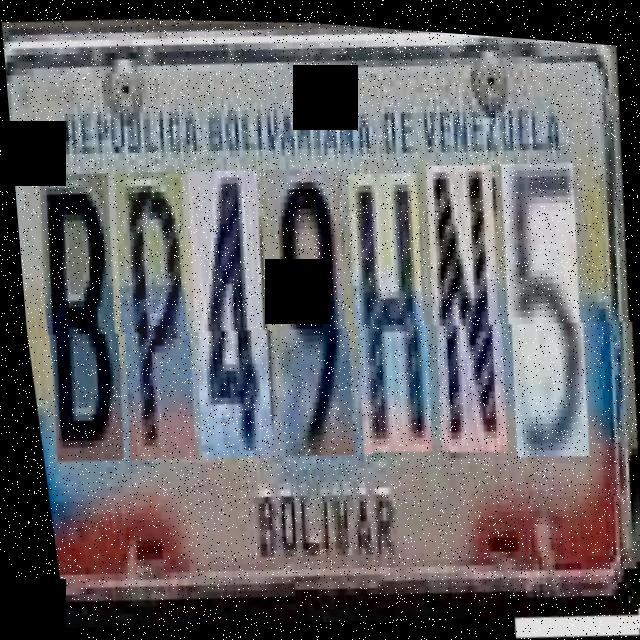4: (171, 164, 295, 463)
5: (485, 154, 612, 460)
9: (253, 161, 377, 460)
B: (24, 168, 148, 467)
H: (332, 165, 454, 457)
N: (410, 156, 530, 456)
P: (99, 167, 219, 465)
